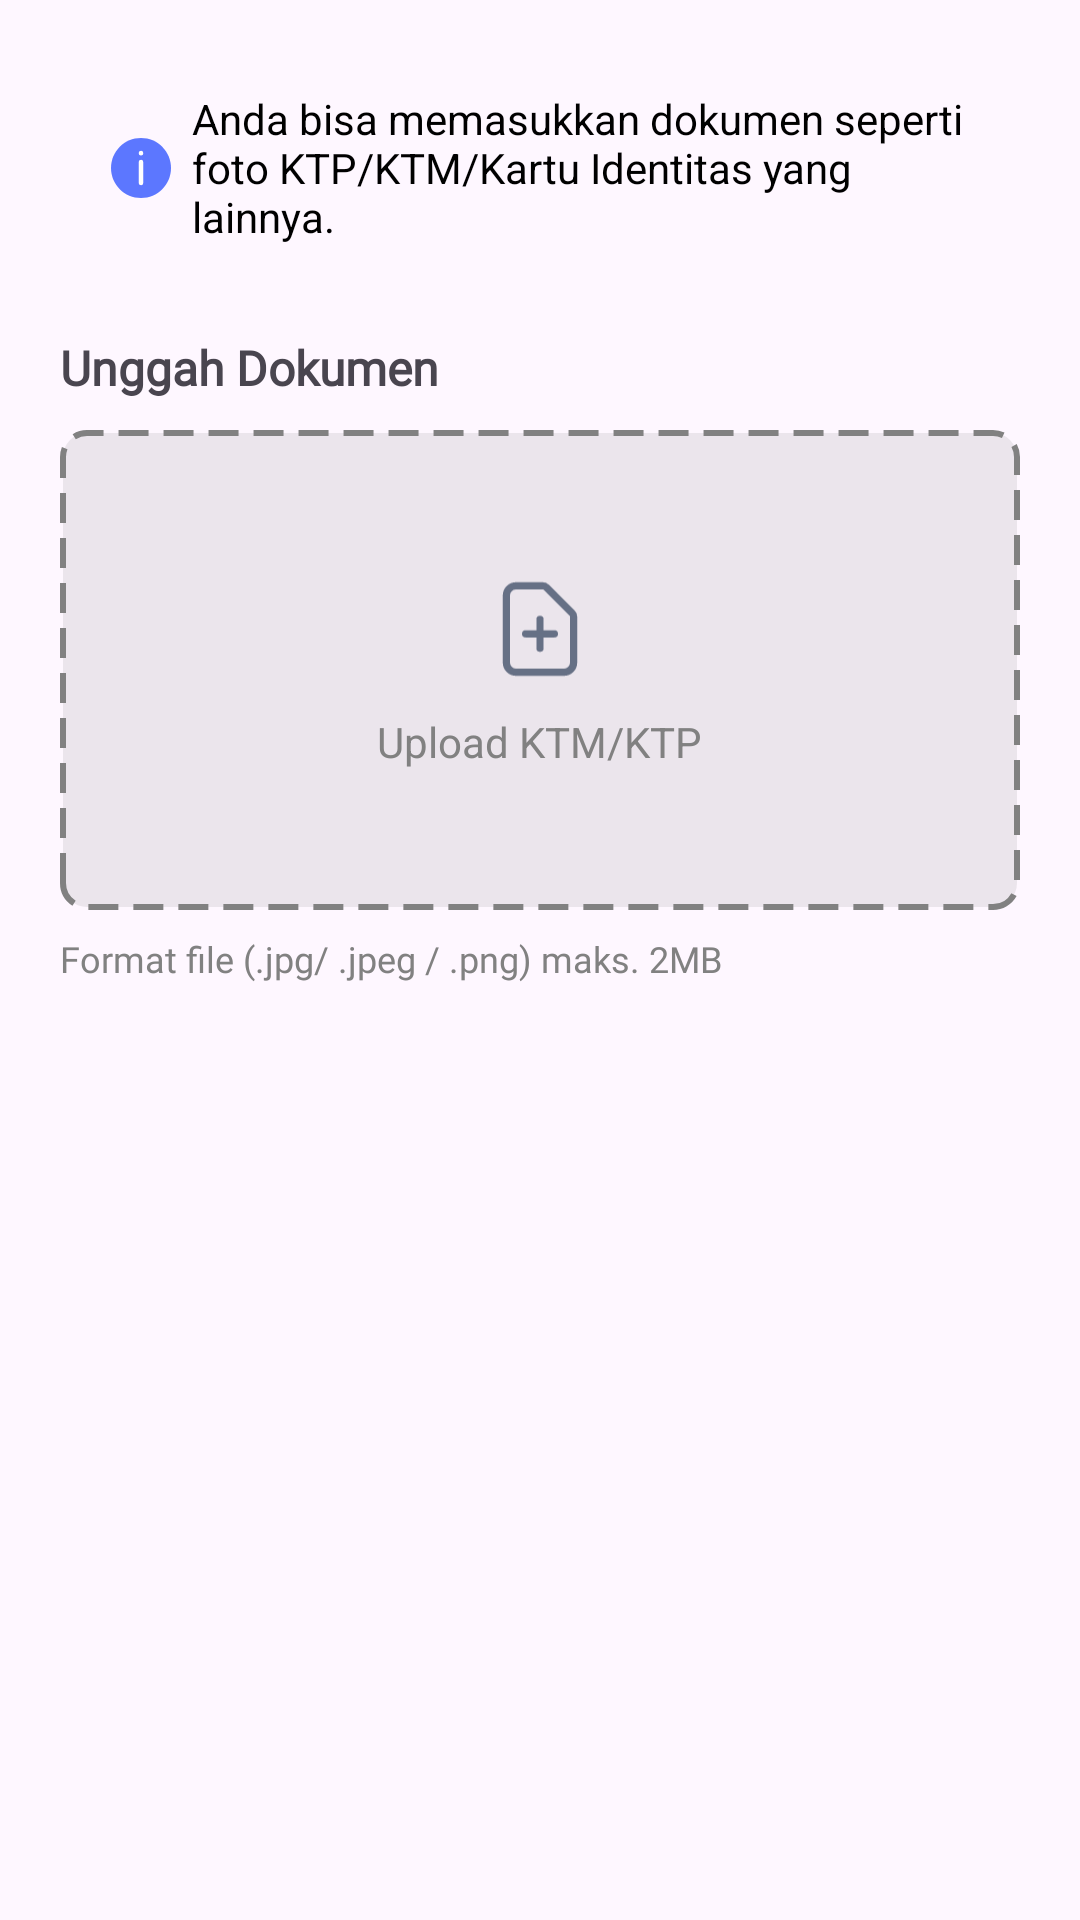

Where icons sit on this 1080x1920 app screen, as (left=x1, top=y1, right=x2, bottom=y2):
alert: (left=111, top=138, right=171, bottom=198)
document add: (left=502, top=582, right=578, bottom=676)
